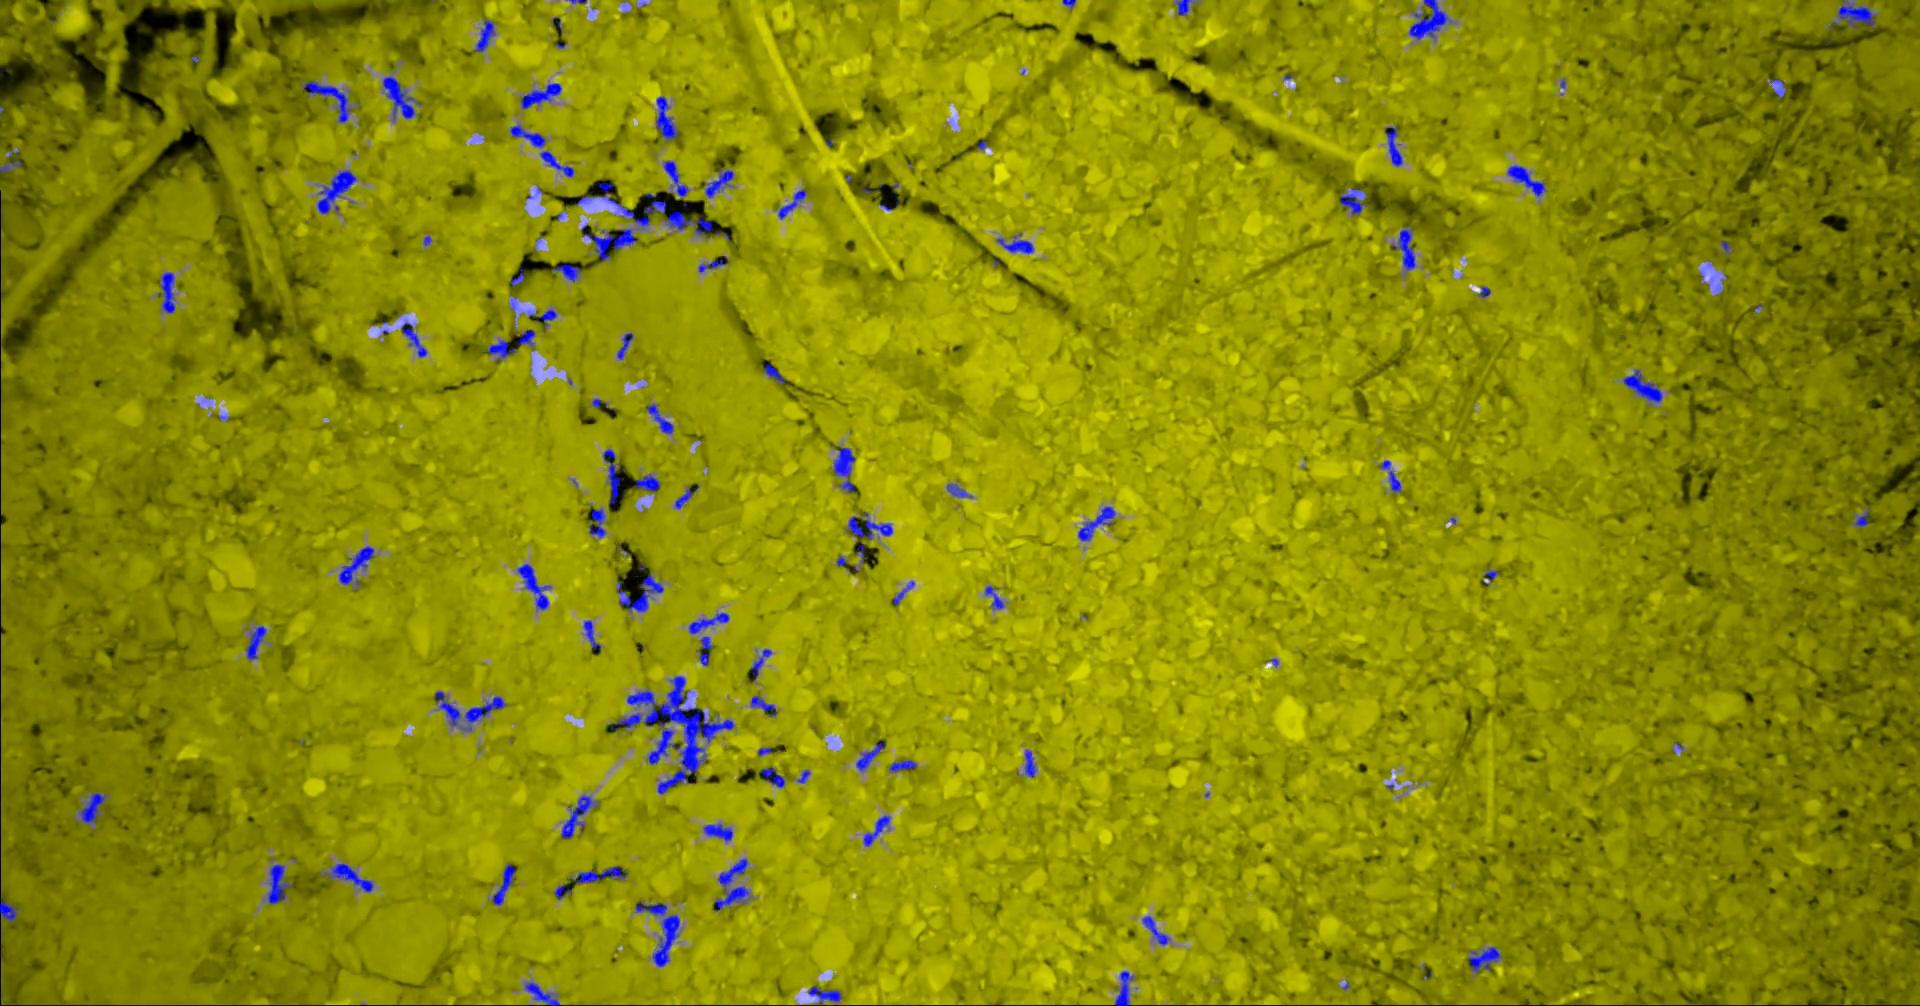ant: (509, 124, 573, 177), (596, 182, 665, 229), (434, 690, 505, 730), (635, 902, 679, 967), (580, 224, 636, 260), (303, 80, 350, 122), (712, 857, 748, 909), (616, 573, 663, 611), (382, 76, 422, 121), (316, 169, 356, 213), (1408, 0, 1450, 39), (561, 795, 599, 838), (516, 563, 550, 608), (326, 862, 373, 892), (338, 546, 373, 584), (1622, 370, 1662, 401), (1077, 506, 1114, 540), (1506, 164, 1545, 196), (664, 210, 712, 235), (847, 512, 891, 539), (1390, 225, 1415, 271), (1837, 0, 1876, 28), (519, 83, 561, 108), (602, 448, 621, 504), (655, 97, 679, 140), (265, 864, 291, 904), (491, 862, 516, 904), (833, 446, 855, 492), (569, 866, 627, 883), (663, 160, 688, 196), (1465, 946, 1501, 972), (855, 741, 884, 771), (703, 168, 733, 197), (1142, 915, 1170, 945), (79, 791, 105, 823), (401, 323, 425, 357), (524, 981, 559, 1005), (777, 189, 805, 218), (645, 404, 673, 433), (688, 612, 728, 633), (863, 815, 889, 846), (996, 232, 1032, 253), (1338, 188, 1368, 213), (1384, 126, 1402, 166), (245, 625, 265, 661), (472, 19, 494, 51), (1379, 460, 1401, 492), (157, 272, 174, 312), (1114, 970, 1133, 1005), (750, 648, 771, 680), (486, 339, 516, 361), (808, 986, 841, 1005), (674, 484, 698, 508), (528, 309, 556, 329), (891, 580, 914, 605), (750, 695, 776, 716), (583, 620, 599, 653), (0, 890, 17, 921), (552, 263, 580, 281), (703, 823, 731, 841), (0, 149, 22, 171), (759, 767, 783, 788), (588, 508, 604, 537), (634, 474, 660, 492), (616, 332, 632, 359), (698, 255, 728, 271), (763, 363, 785, 384), (984, 586, 1003, 608), (698, 636, 712, 666), (946, 483, 971, 497), (1023, 749, 1035, 777), (888, 760, 916, 771), (1769, 77, 1785, 97), (552, 883, 571, 899), (517, 329, 535, 345), (509, 267, 524, 286), (1482, 568, 1498, 584), (1175, 0, 1192, 15), (1854, 509, 1869, 526)
